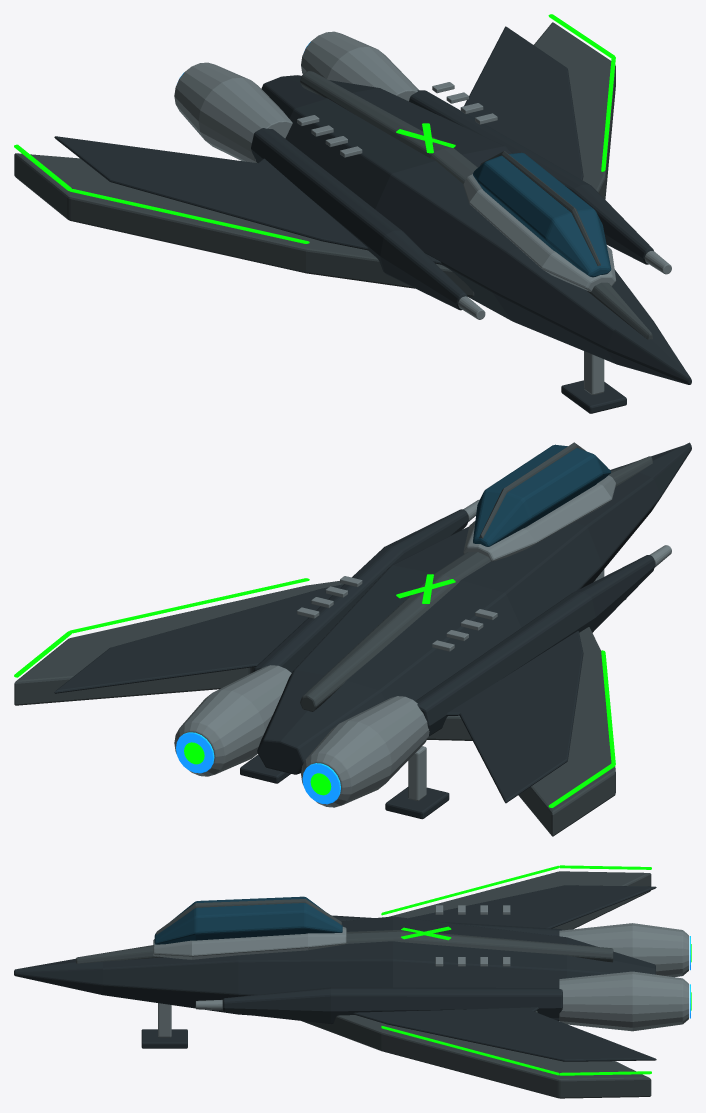
File: fighter_player.glb
The picture shows the model from 3 angles, top to bottom: view 1: azimuth 30°, elevation 25°; view 2: azimuth 150°, elevation 25°; view 3: azimuth 270°, elevation 25°; orthographic projection. The views are drawn at different scales.
Visible parts, largest first — view 1: player_surface_0, player_surface_1, player_surface_3, player_surface_5, player_surface_2, player_surface_6; view 2: player_surface_0, player_surface_1, player_surface_3, player_surface_5, player_surface_2, player_surface_4, player_surface_6; view 3: player_surface_0, player_surface_1, player_surface_3, player_surface_5, player_surface_2, player_surface_6.
Boxes of the visible parts, bbox=[...] form: player_surface_0: bbox=[54, 26, 691, 413]; player_surface_1: bbox=[14, 22, 652, 339]; player_surface_3: bbox=[174, 31, 671, 394]; player_surface_5: bbox=[473, 152, 611, 277]; player_surface_2: bbox=[14, 14, 615, 243]; player_surface_6: bbox=[480, 151, 600, 265]; player_surface_0: bbox=[54, 442, 691, 819]; player_surface_1: bbox=[14, 456, 652, 836]; player_surface_3: bbox=[174, 475, 671, 807]; player_surface_5: bbox=[473, 444, 610, 546]; player_surface_2: bbox=[14, 574, 615, 807]; player_surface_4: bbox=[176, 732, 340, 804]; player_surface_6: bbox=[479, 442, 585, 538]; player_surface_0: bbox=[14, 885, 656, 1061]; player_surface_1: bbox=[76, 871, 651, 1098]; player_surface_3: bbox=[153, 905, 688, 1037]; player_surface_5: bbox=[154, 896, 342, 944]; player_surface_2: bbox=[381, 865, 691, 1075]; player_surface_6: bbox=[156, 899, 341, 934].
Size of the model in its own units: 6.4 by 2.04 by 8.77.
